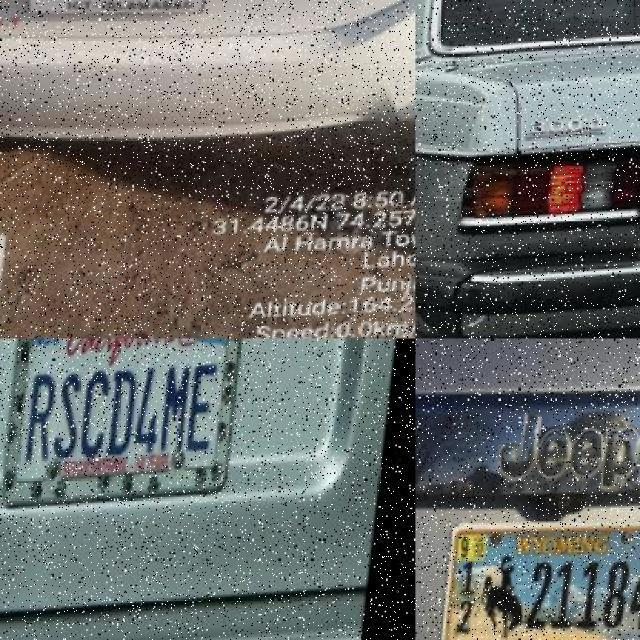LicensePlate: (0, 338, 254, 520), (445, 527, 639, 639), (8, 0, 237, 52)
